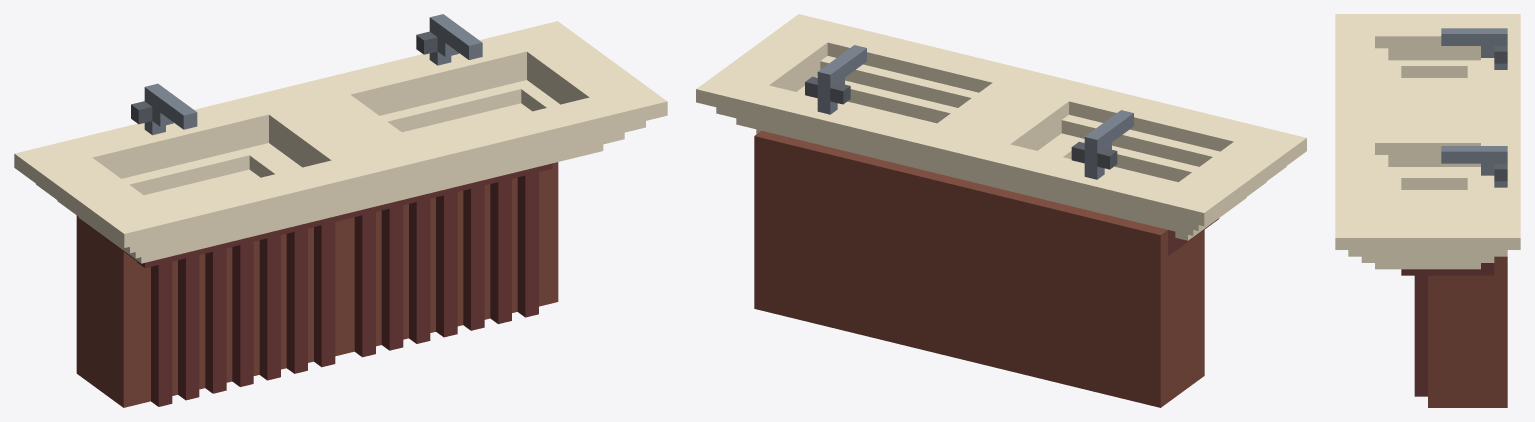
The model's file is double-sink.obj.
3 renders of one model, left to right at view 1: azimuth 30°, elevation 25°; view 2: azimuth 150°, elevation 25°; view 3: azimuth 270°, elevation 25°, orthographic. The views are drawn at different scales.
Bounding box in the file's own units: 4 × 1.9 × 1.4.
Materials: 1 (1 with a texture image).
